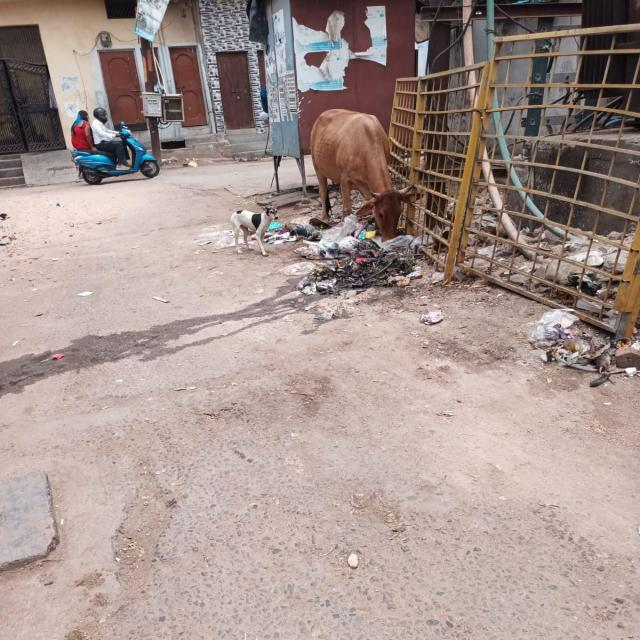Garbage: (303, 214, 424, 297), (530, 307, 630, 378)
